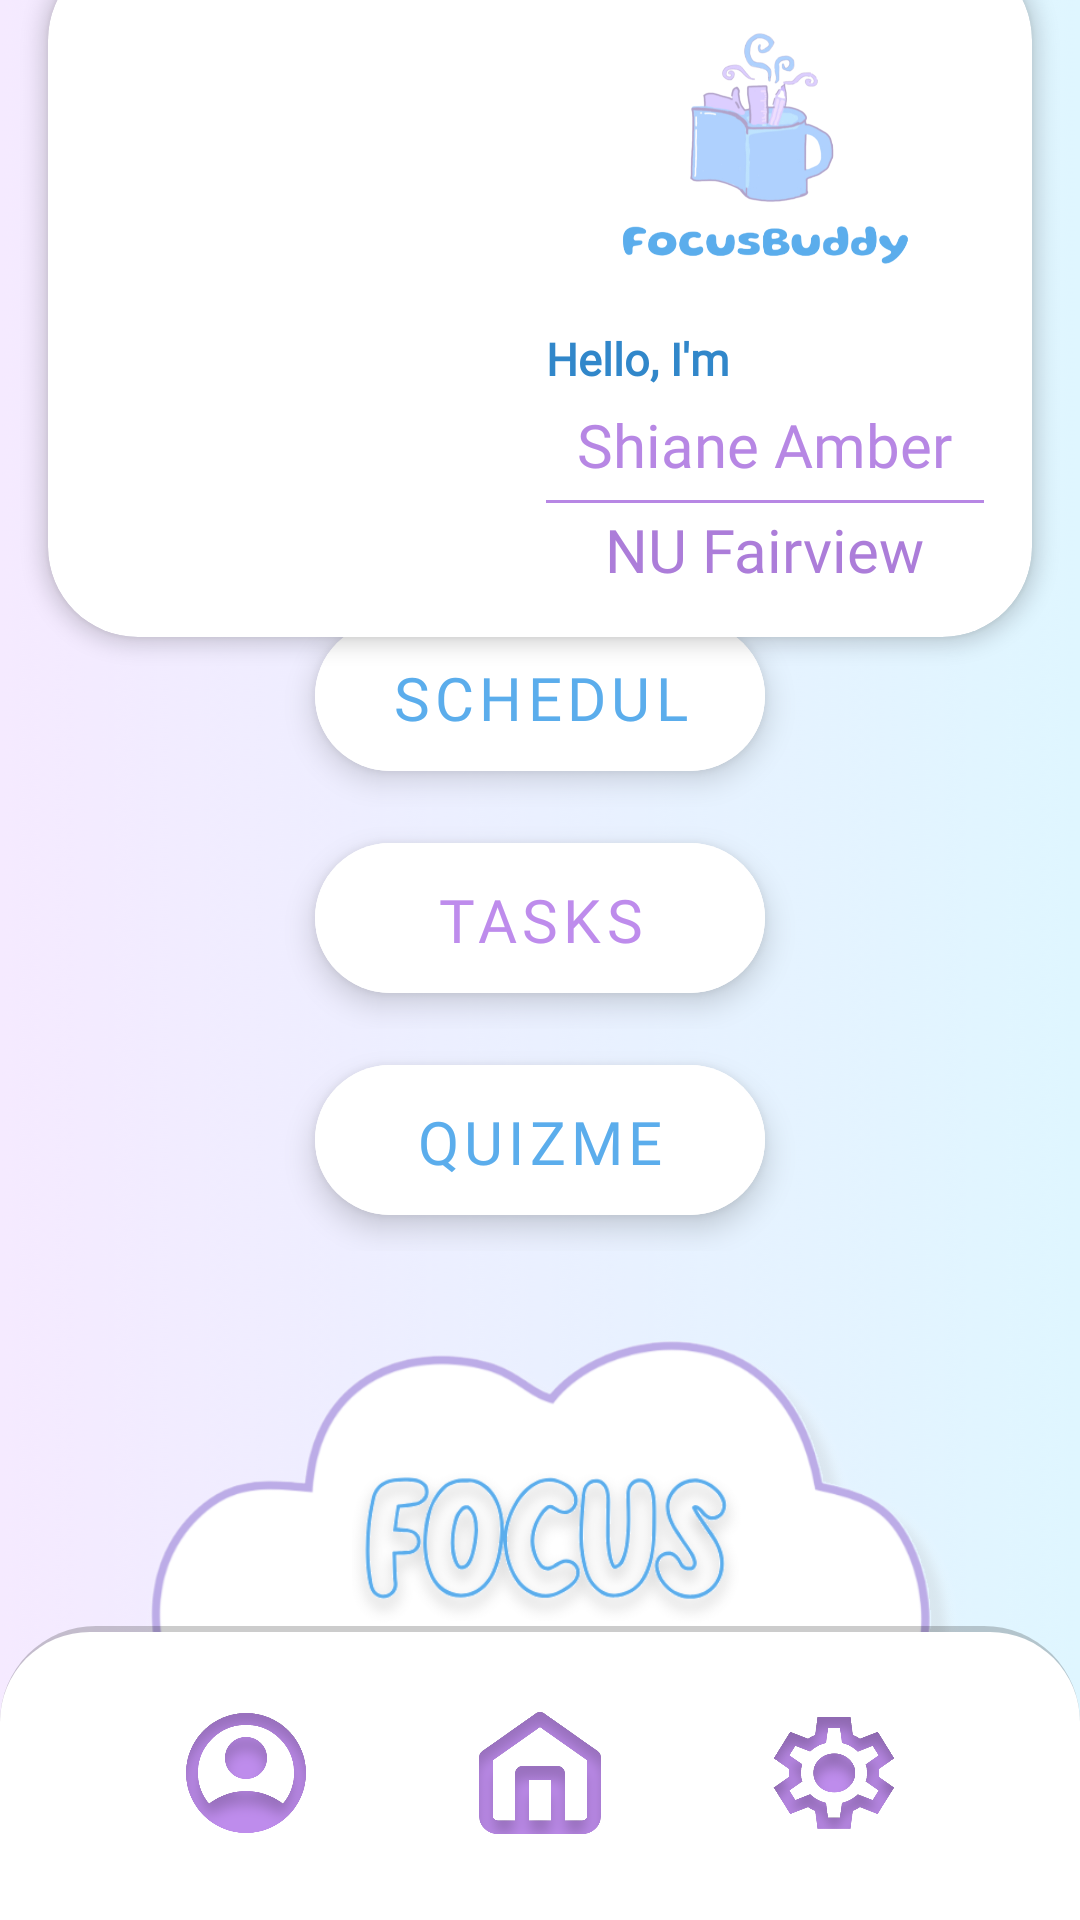

Icon bounding boxes for this 1080w x 1920h phone screenshot, format [left=x1, top=y1, right=x2, bottom=y2]:
home: [left=479, top=1712, right=601, bottom=1834]
profile: [left=186, top=1713, right=306, bottom=1833]
settings: [left=774, top=1717, right=894, bottom=1829]
